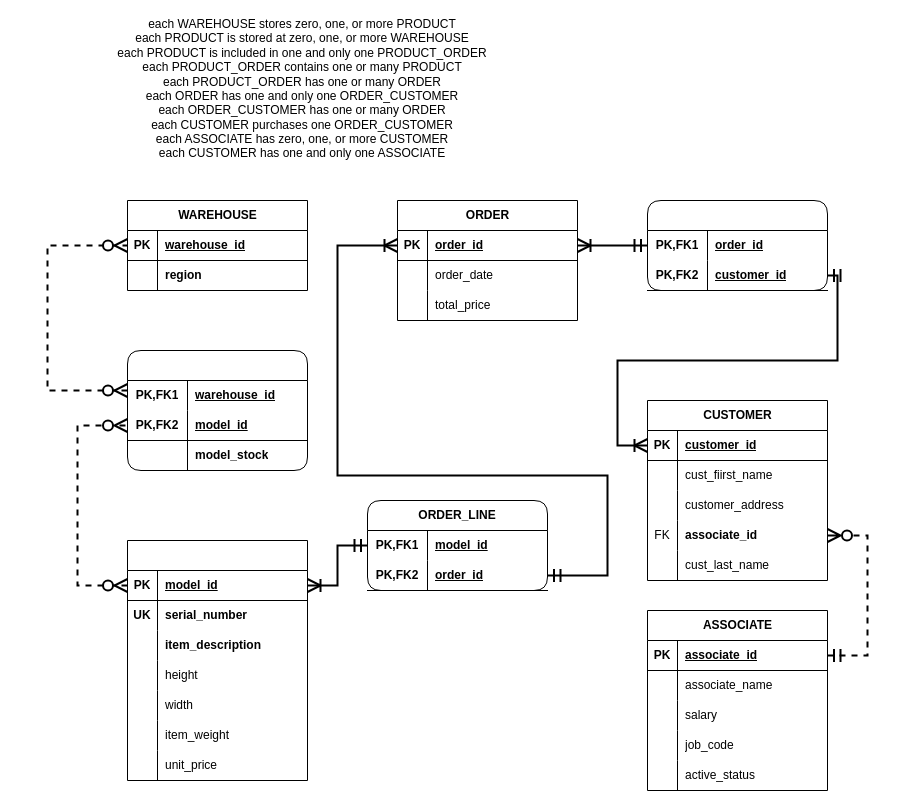
The diagram is 898 pixels wide and 808 high, and some of its shapes have lost their labels. The box of each missing label's shape, as (x1, y1, x2, y2) in pixels:
ORDER_CUSTOMER: (646, 200, 828, 290)
PRODUCT: (126, 540, 308, 780)
PRODUCT_INVENTORY: (126, 350, 308, 470)
